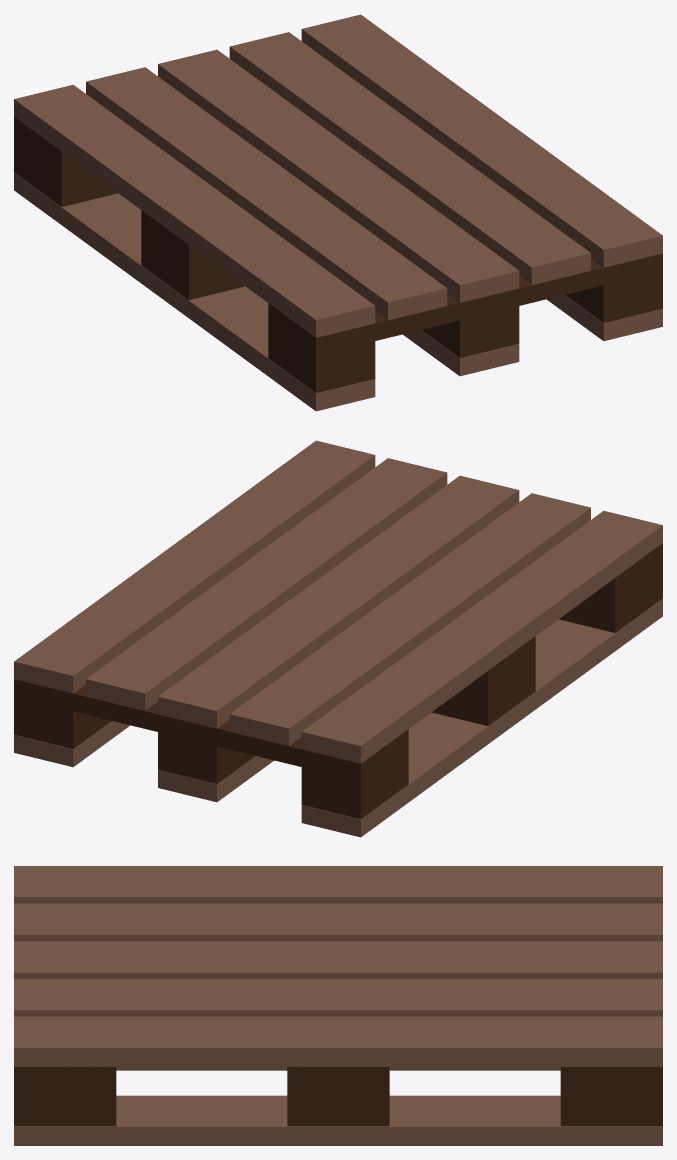
The model's file is Paleta_01.fbx.
3 renders of one model, top to bottom at view 1: azimuth 30°, elevation 25°; view 2: azimuth 150°, elevation 25°; view 3: azimuth 270°, elevation 25°, orthographic. The views are drawn at different scales.
Visible parts, largest first — view 1: Cube; view 2: Cube; view 3: Cube.
Boxes of the visible parts, x1=… form: Cube: x1=14, y1=14, x2=662, y2=411; Cube: x1=14, y1=440, x2=662, y2=837; Cube: x1=14, y1=866, x2=662, y2=1145.
Bounding box in the file's own units: 1.62 × 0.407 × 2.44.
